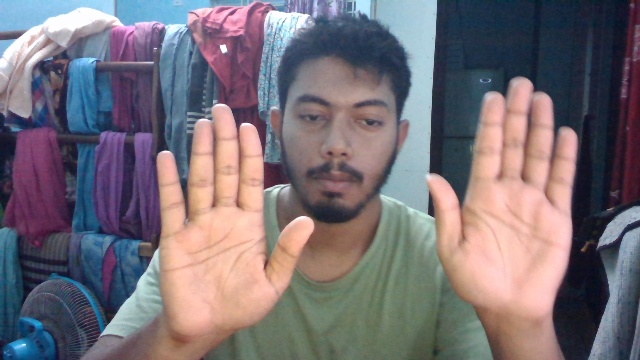thanks: (136, 69, 592, 334)
